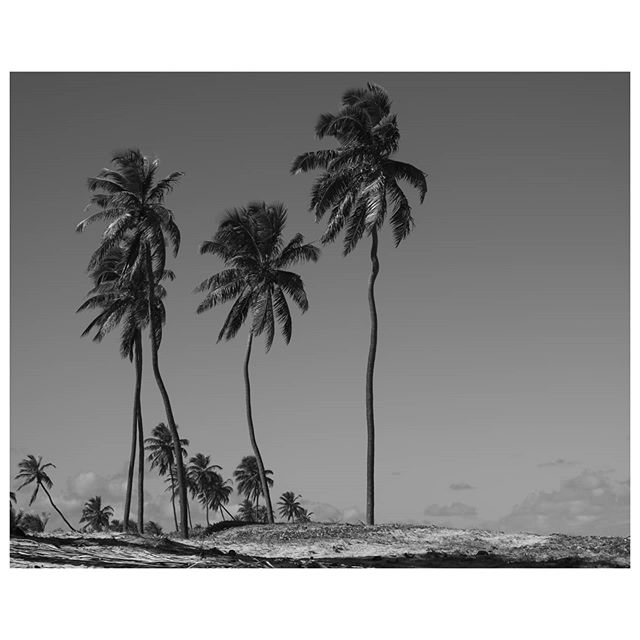sky: (8, 73, 624, 515)
tree: (301, 79, 445, 522), (87, 155, 202, 532), (210, 197, 317, 541), (134, 421, 201, 537), (16, 454, 92, 538), (231, 459, 281, 533), (183, 451, 231, 523)
